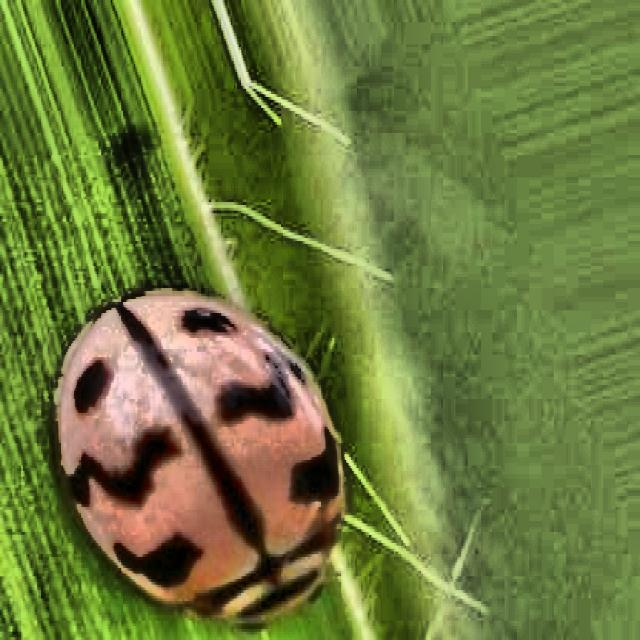Asian-Lady-beetle: (46, 279, 359, 640)
